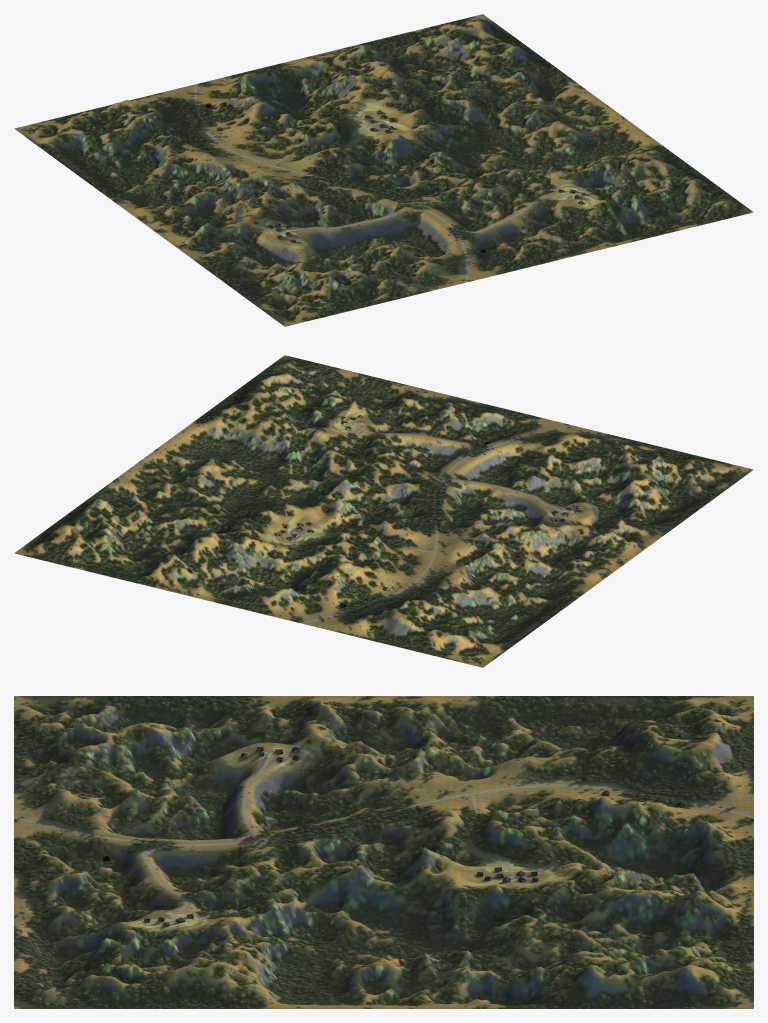
The model's file is raven-terrain-lite.glb.
The picture shows the model from 3 angles, top to bottom: view 1: azimuth 30°, elevation 25°; view 2: azimuth 150°, elevation 25°; view 3: azimuth 270°, elevation 25°; orthographic projection. The views are drawn at different scales.
Parts seen in each view (by area): view 1: Land-A, Houses; view 2: Land-A; view 3: Land-A, Houses.
Boxes of the visible parts, <box> form: Land-A: <box>14,14,753,326</box>; Houses: <box>206,104,585,252</box>; Land-A: <box>14,355,753,667</box>; Land-A: <box>14,696,753,1008</box>; Houses: <box>103,747,684,926</box>.
Size of the model in its own units: 400 by 24.56 by 400.
2 materials, 2 textured.
